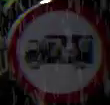Heavy Vehicles: (9, 3, 105, 103)
